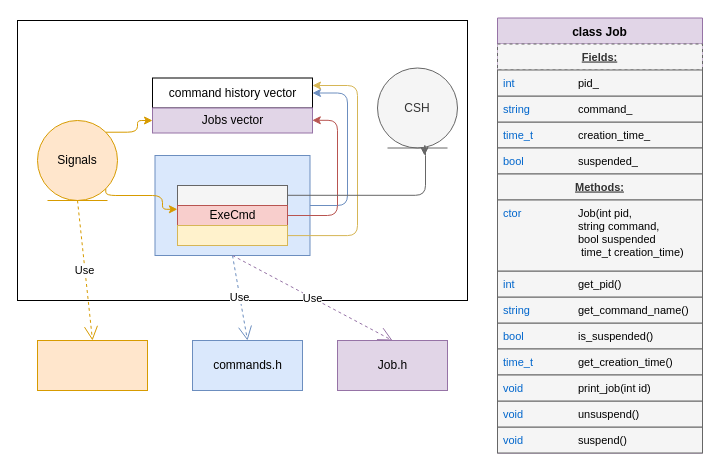
This 720x473 diagram has some shape labels left out. The shapes that lost their labels are listed below. From the top down, each one's box as (x1, y1, x2, y2) in pixels, then its label:
(16, 20, 468, 300): Smash.cpp (main)
(176, 184, 288, 206): ExeComp
(154, 154, 310, 256): Commands
(176, 224, 288, 246): BgCmd
(36, 340, 148, 390): signal.h
